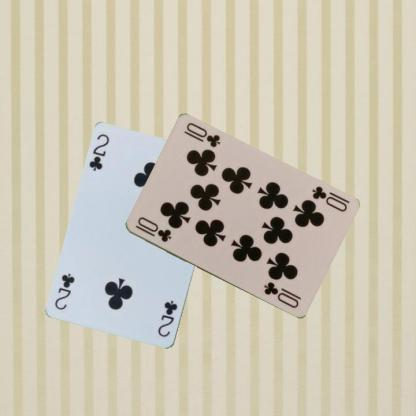10c: (132, 214, 173, 244), (308, 184, 348, 214)
2c: (87, 132, 111, 172), (156, 298, 179, 339)
